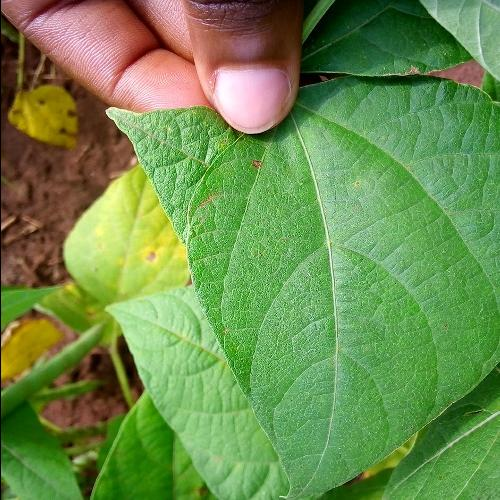hawar: (237, 145, 271, 194)
sehat: (316, 134, 442, 402)
